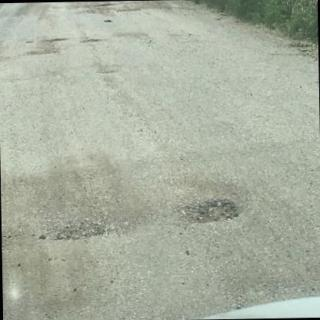pothole: (179, 198, 238, 224), (42, 222, 105, 241)
